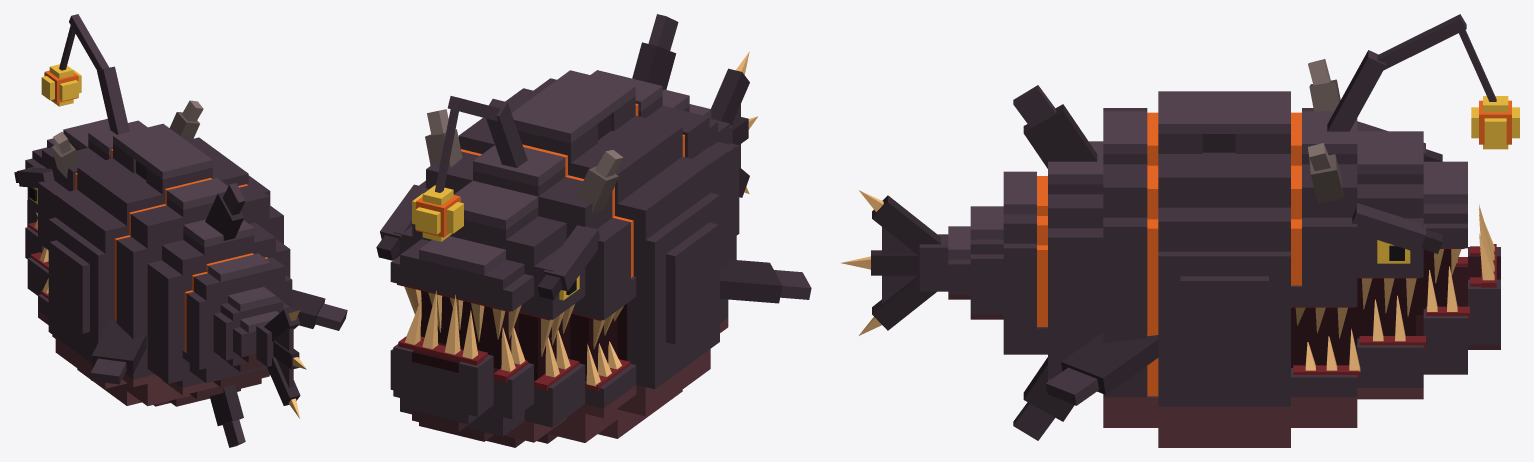
File: InfernalAngler.obj
The picture shows the model from 3 angles, left to right: view 1: azimuth 30°, elevation 25°; view 2: azimuth 150°, elevation 25°; view 3: azimuth 270°, elevation 25°; orthographic projection. The views are drawn at different scales.
Visible parts, largest first — view 1: Body, B3, B4, B2, Tail, FinL, Jaw, Lure, FinR, Rod1, Rod2; view 2: Body, Jaw, B2, B3, FinL, Lure, Tail, Rod1, B4, Rod2; view 3: Body, Jaw, B3, B2, B4, Tail, FinR, Lure, Rod1, Rod2.
Part boxes in pixels (x1=…): Body: x1=14, y1=100, x2=270, y2=406; B3: x1=147, y1=183, x2=290, y2=447; B4: x1=182, y1=253, x2=292, y2=386; B2: x1=114, y1=178, x2=283, y2=406; Tail: x1=256, y1=307, x2=306, y2=418; FinL: x1=90, y1=318, x2=146, y2=384; Jaw: x1=25, y1=200, x2=55, y2=338; Lure: x1=41, y1=25, x2=81, y2=106; FinR: x1=292, y1=289, x2=347, y2=330; Rod1: x1=97, y1=66, x2=129, y2=134; Rod2: x1=69, y1=14, x2=108, y2=70; Body: x1=376, y1=70, x2=719, y2=438; Jaw: x1=390, y1=290, x2=636, y2=447; B2: x1=534, y1=70, x2=728, y2=332; B3: x1=632, y1=14, x2=736, y2=259; FinL: x1=720, y1=259, x2=811, y2=303; Lure: x1=412, y1=109, x2=463, y2=241; Tail: x1=711, y1=51, x2=757, y2=197; Rod1: x1=486, y1=98, x2=527, y2=167; B4: x1=689, y1=104, x2=739, y2=235; Rod2: x1=447, y1=96, x2=500, y2=121; Body: x1=1158, y1=59, x2=1467, y2=447; Jaw: x1=1291, y1=204, x2=1500, y2=427; B3: x1=1013, y1=85, x2=1103, y2=440; B2: x1=1103, y1=108, x2=1158, y2=427; B4: x1=948, y1=171, x2=1047, y2=354; Tail: x1=841, y1=190, x2=948, y2=335; FinR: x1=1046, y1=332, x2=1158, y2=405; Lure: x1=1459, y1=30, x2=1519, y2=149; Rod1: x1=1327, y1=50, x2=1386, y2=131; Rod2: x1=1377, y1=14, x2=1466, y2=70.
Size of the model in its own units: 16.12 by 18.98 by 27.67.
1 material, 1 textured.
